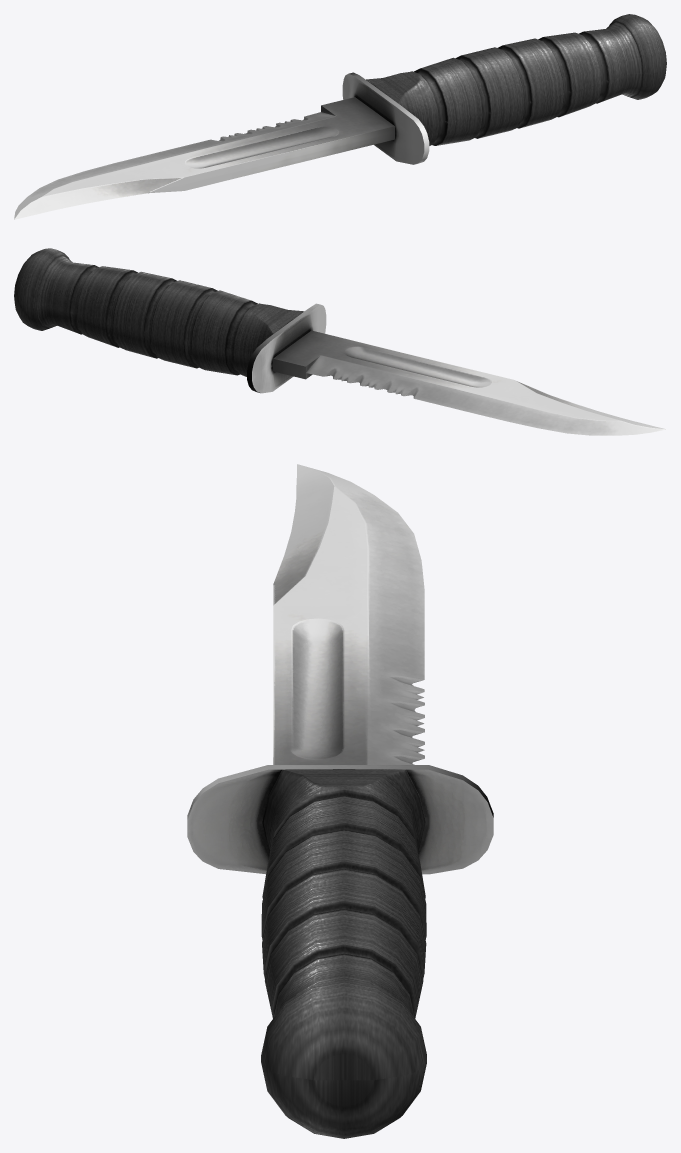
File: knife.glb
3 renders of one model, top to bottom at view 1: azimuth 30°, elevation 25°; view 2: azimuth 150°, elevation 25°; view 3: azimuth 270°, elevation 25°, orthographic. The views are drawn at different scales.
Visible parts, largest first — view 1: knife; view 2: knife; view 3: knife.
Part boxes in pixels (<box>): knife: <box>14,14,666,219</box>; knife: <box>14,248,666,435</box>; knife: <box>187,464,493,1138</box>.
Size of the model in its own units: 0.293 by 0.0334 by 0.0616.
Materials: 1 (1 with a texture image).
